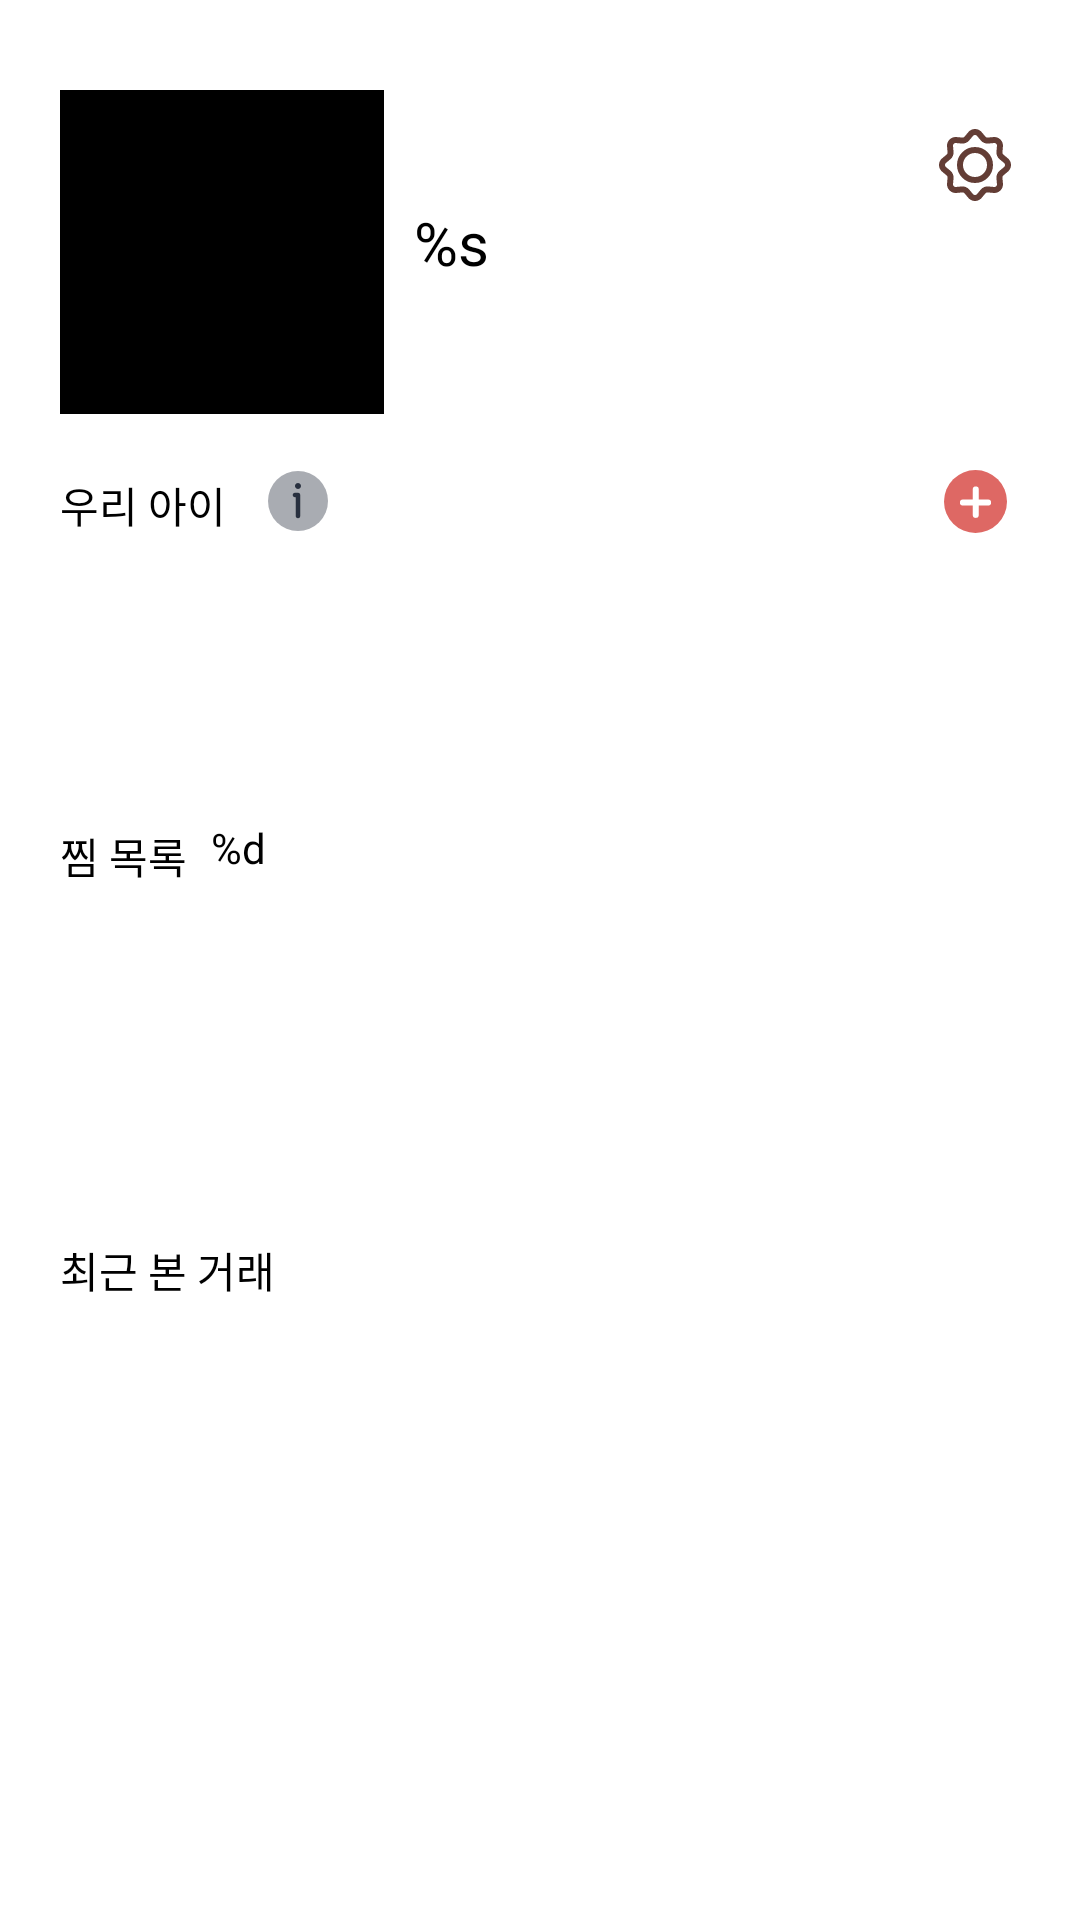

Locate icon controls on the screen. Image size 1080px×1920px, boxes as (x1, y1, x2, y2).
circle plus: (944, 470, 1007, 533)
information: (268, 471, 328, 531)
option: (939, 129, 1011, 201)
